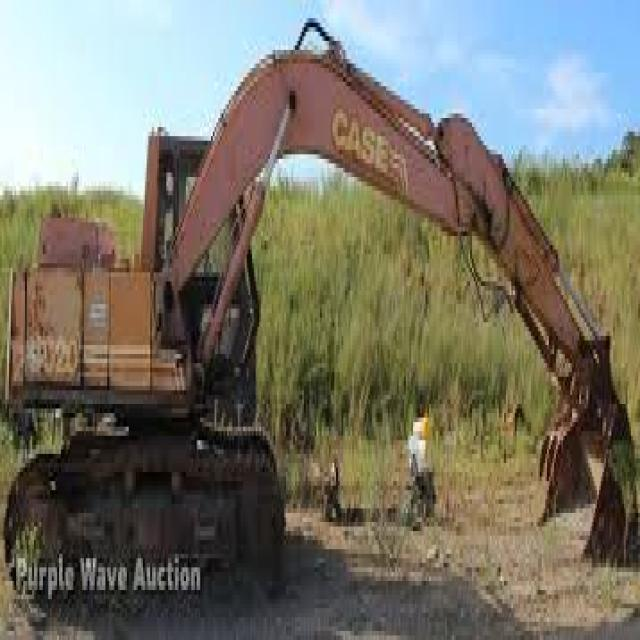excavator: (0, 100, 297, 640)
